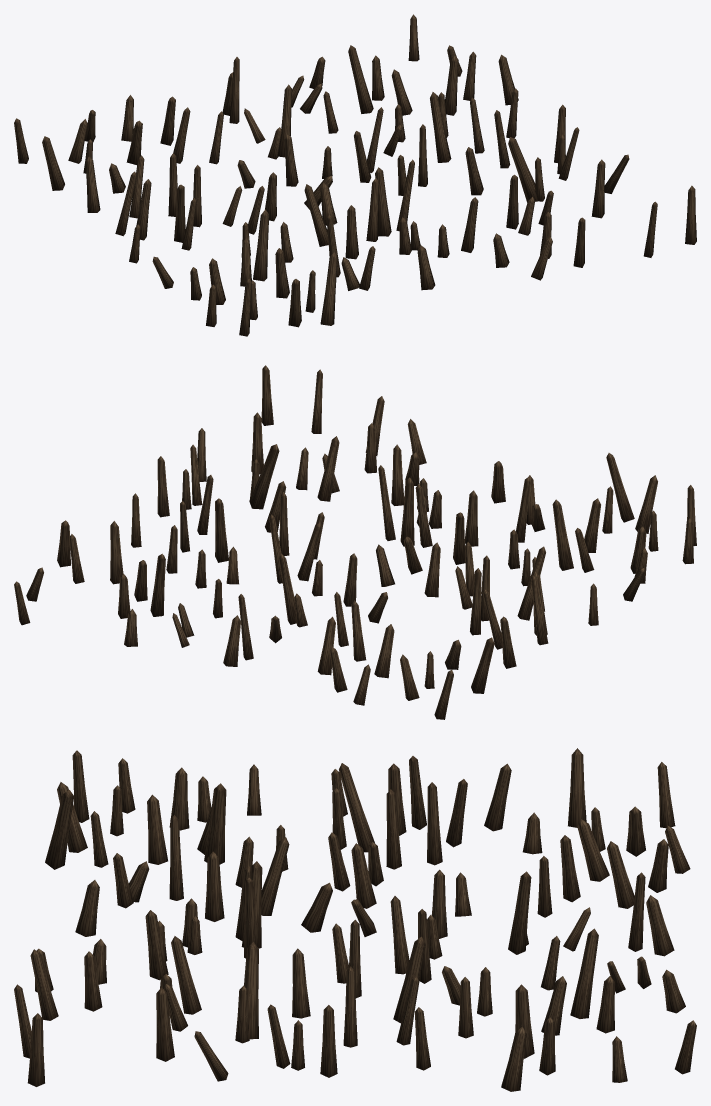
Rendered from pneumatophores.glb.
3 views of the same model, one above another, from view 1: azimuth 30°, elevation 25°; view 2: azimuth 150°, elevation 25°; view 3: azimuth 270°, elevation 25° (orthographic). The views are drawn at different scales.
Parts seen in each view (by area): view 1: wood; view 2: wood; view 3: wood.
Part boxes in pixels (<box>): wood: <box>14,14,696,336</box>; wood: <box>14,365,696,719</box>; wood: <box>14,748,696,1091</box>.
Bounding box in the file's own units: 2.96 × 0.4379 × 2.97.
Materials: 1 (1 with a texture image).
